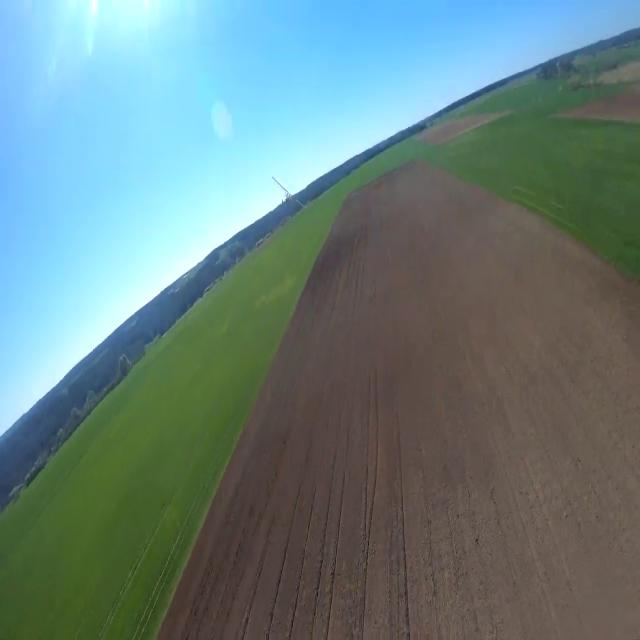iha: (274, 176, 312, 217)
